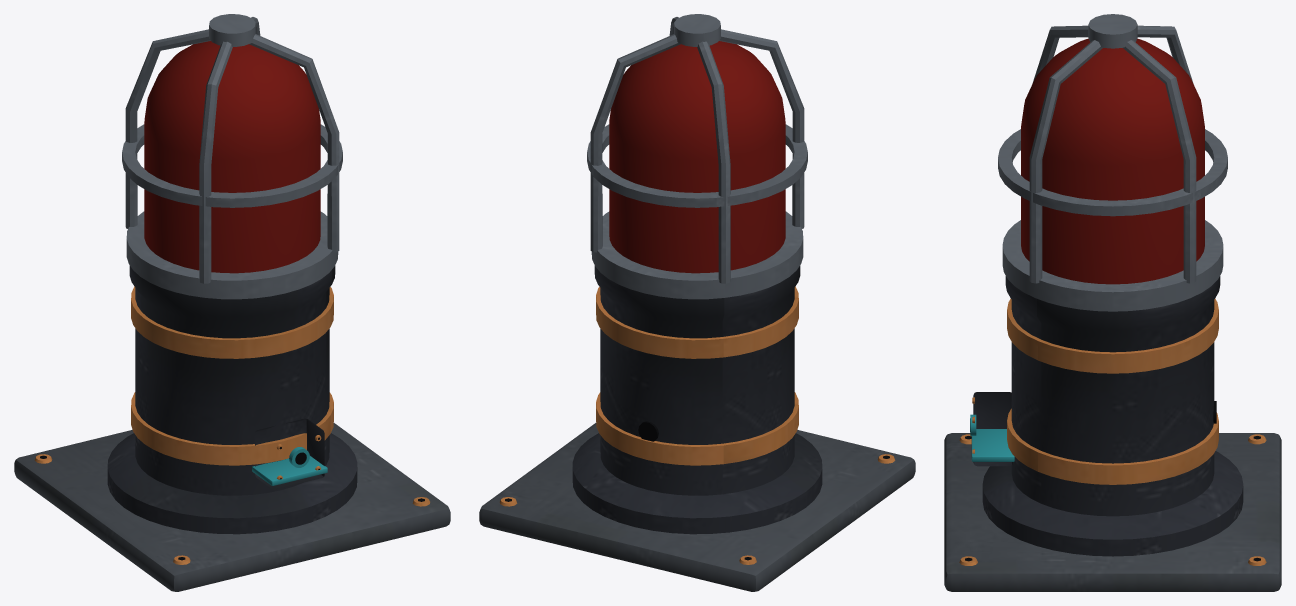
File: warning_light.glb
3 views of the same model, side by side, from view 1: azimuth 30°, elevation 25°; view 2: azimuth 150°, elevation 25°; view 3: azimuth 270°, elevation 25° (orthographic). The views are drawn at different scales.
Visible parts, largest first — view 1: Body; view 2: Body; view 3: Body.
Boxes of the visible parts, box(x1,y1,x2,y2) form: Body: box(14, 14, 450, 591); Body: box(479, 14, 915, 591); Body: box(944, 14, 1281, 591).
Bounding box in the file's own units: 0.22 × 0.359 × 0.22.
Materials: 10 (4 with a texture image).
